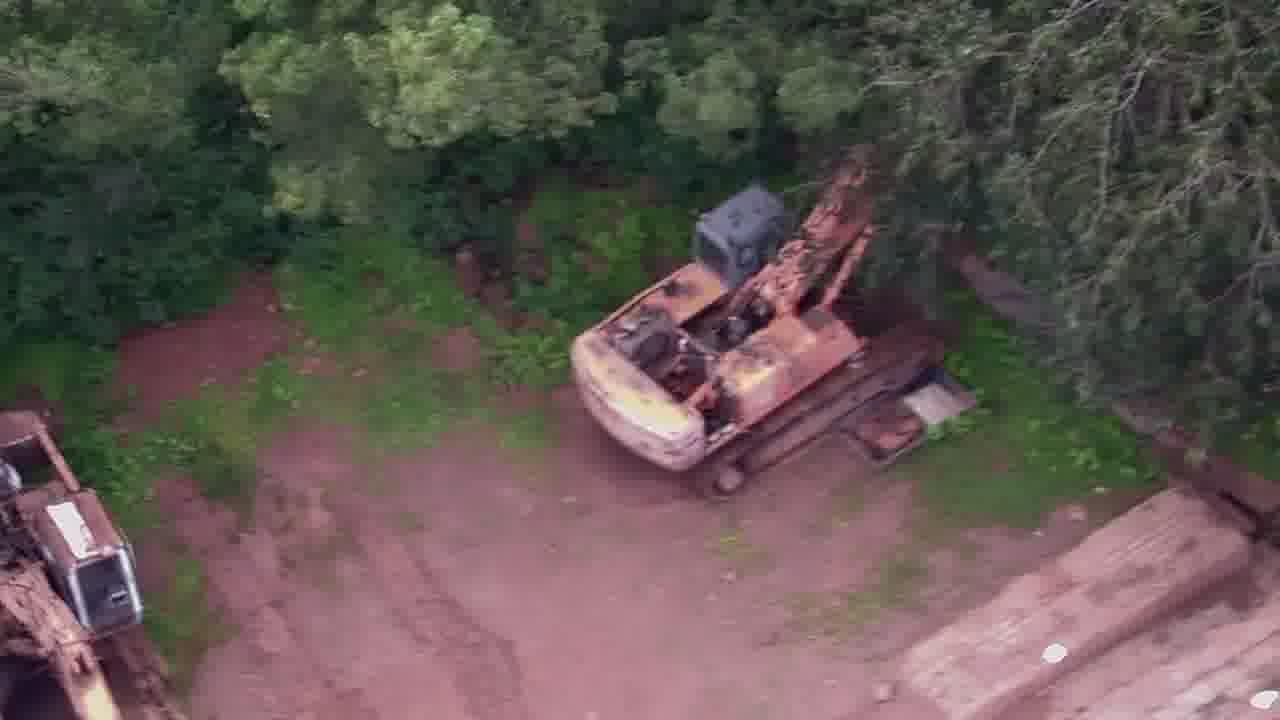HMV: (568, 138, 956, 510)
